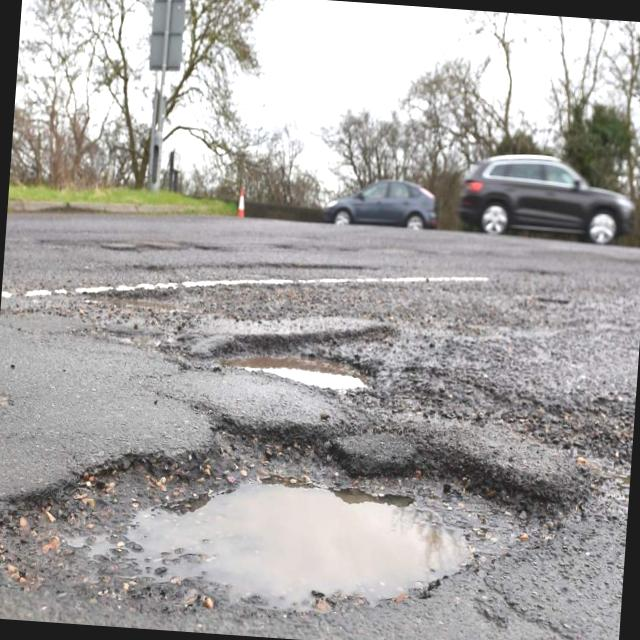bad-road: (0, 397, 576, 640), (207, 336, 377, 390)
